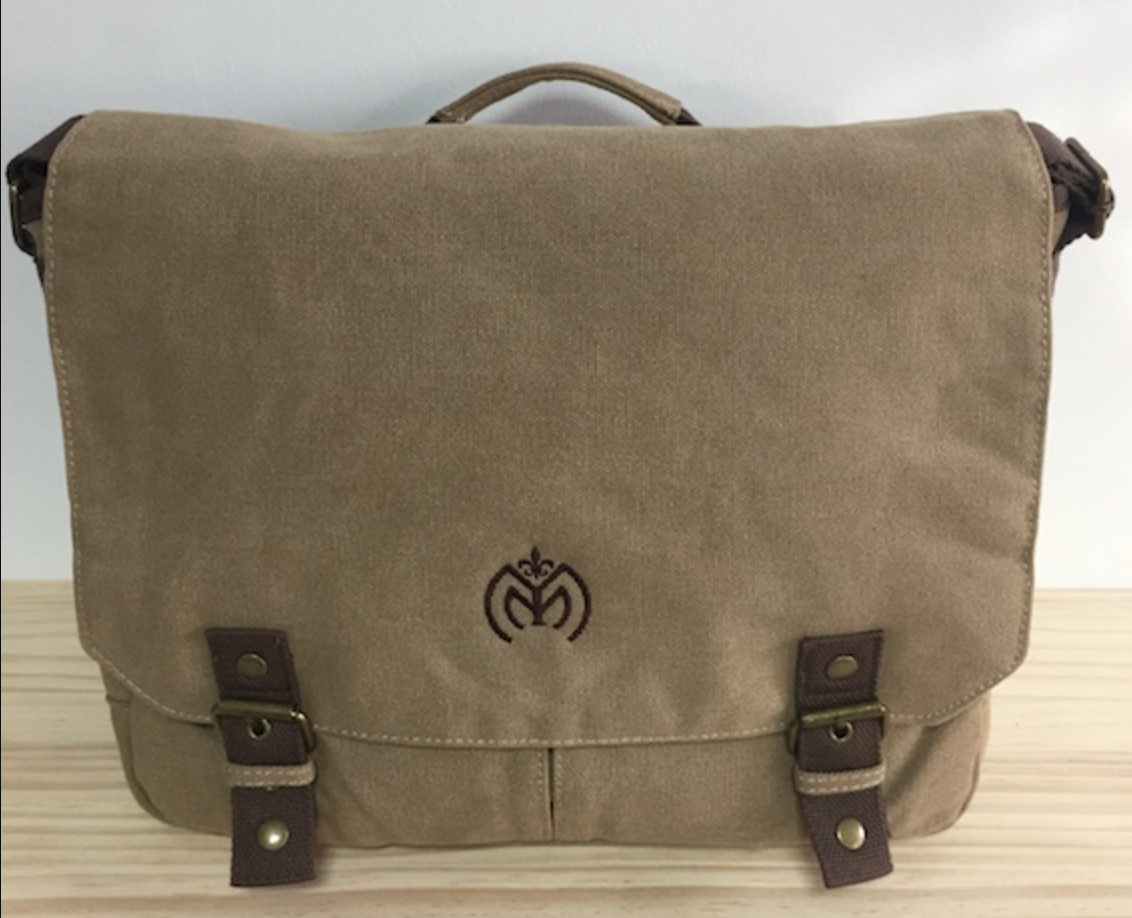cartera: (6, 49, 1129, 918)
lona: (183, 212, 913, 485)
